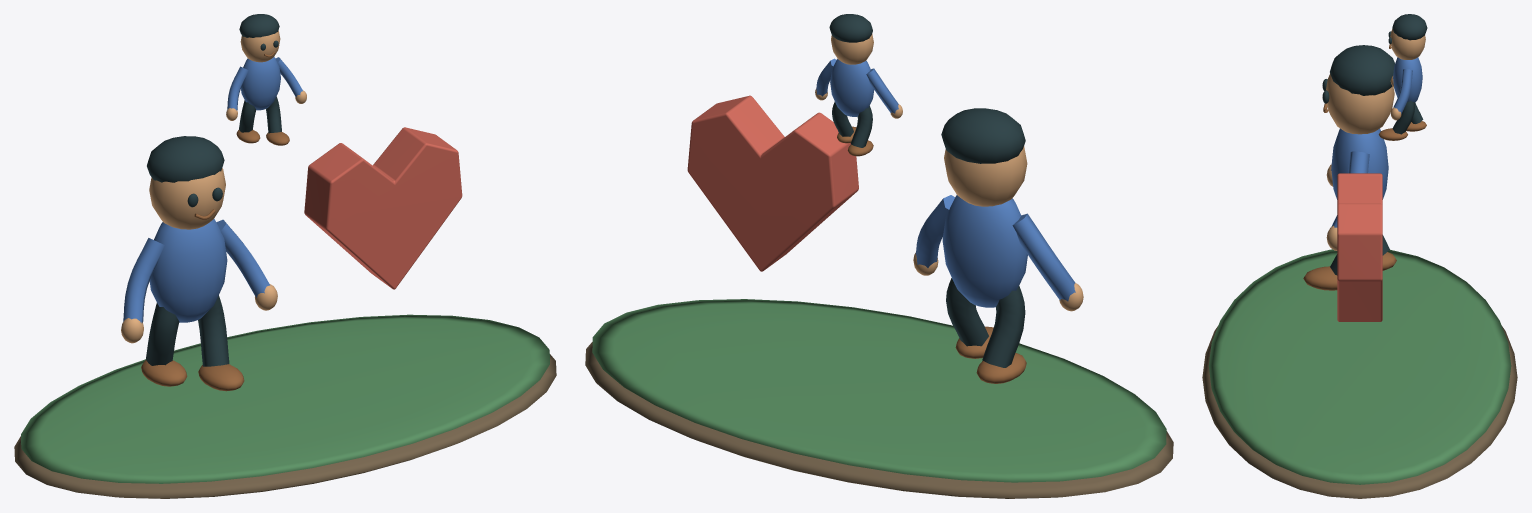
File: complete-third-friendship-bond.glb
The picture shows the model from 3 angles, left to right: view 1: azimuth 30°, elevation 25°; view 2: azimuth 150°, elevation 25°; view 3: azimuth 270°, elevation 25°; orthographic projection. The views are drawn at different scales.
Parts seen in each view (by area): view 1: complete-third-friendship-bond_surface_01, complete-third-friendship-bond_surface_06, complete-third-friendship-bond_surface_05, complete-third-friendship-bond_surface_00, complete-third-friendship-bond_surface_03, complete-third-friendship-bond_surface_02, complete-third-friendship-bond_surface_04; view 2: complete-third-friendship-bond_surface_01, complete-third-friendship-bond_surface_06, complete-third-friendship-bond_surface_05, complete-third-friendship-bond_surface_00, complete-third-friendship-bond_surface_03, complete-third-friendship-bond_surface_02, complete-third-friendship-bond_surface_04; view 3: complete-third-friendship-bond_surface_01, complete-third-friendship-bond_surface_06, complete-third-friendship-bond_surface_00, complete-third-friendship-bond_surface_03, complete-third-friendship-bond_surface_05, complete-third-friendship-bond_surface_02, complete-third-friendship-bond_surface_04.
Boxes of the visible parts, box(x1,y1,x2,y2) form: complete-third-friendship-bond_surface_01: box(21, 314, 549, 483); complete-third-friendship-bond_surface_06: box(304, 127, 462, 289); complete-third-friendship-bond_surface_05: box(123, 57, 302, 323); complete-third-friendship-bond_surface_00: box(14, 354, 556, 498); complete-third-friendship-bond_surface_03: box(146, 14, 281, 366); complete-third-friendship-bond_surface_02: box(121, 30, 306, 343); complete-third-friendship-bond_surface_04: box(141, 52, 289, 391); complete-third-friendship-bond_surface_01: box(592, 299, 1166, 482); complete-third-friendship-bond_surface_06: box(687, 95, 858, 271); complete-third-friendship-bond_surface_05: box(816, 58, 1075, 307); complete-third-friendship-bond_surface_00: box(585, 342, 1173, 498); complete-third-friendship-bond_surface_03: box(829, 14, 1025, 367); complete-third-friendship-bond_surface_02: box(815, 34, 1083, 311); complete-third-friendship-bond_surface_04: box(837, 126, 1026, 383); complete-third-friendship-bond_surface_01: box(1208, 249, 1511, 484); complete-third-friendship-bond_surface_06: box(1337, 173, 1382, 321); complete-third-friendship-bond_surface_00: box(1202, 326, 1517, 498); complete-third-friendship-bond_surface_03: box(1322, 14, 1427, 275); complete-third-friendship-bond_surface_05: box(1331, 57, 1422, 227); complete-third-friendship-bond_surface_02: box(1326, 29, 1425, 250); complete-third-friendship-bond_surface_04: box(1303, 44, 1426, 290).
Size of the model in its own units: 4.56 by 3.29 by 2.5.
